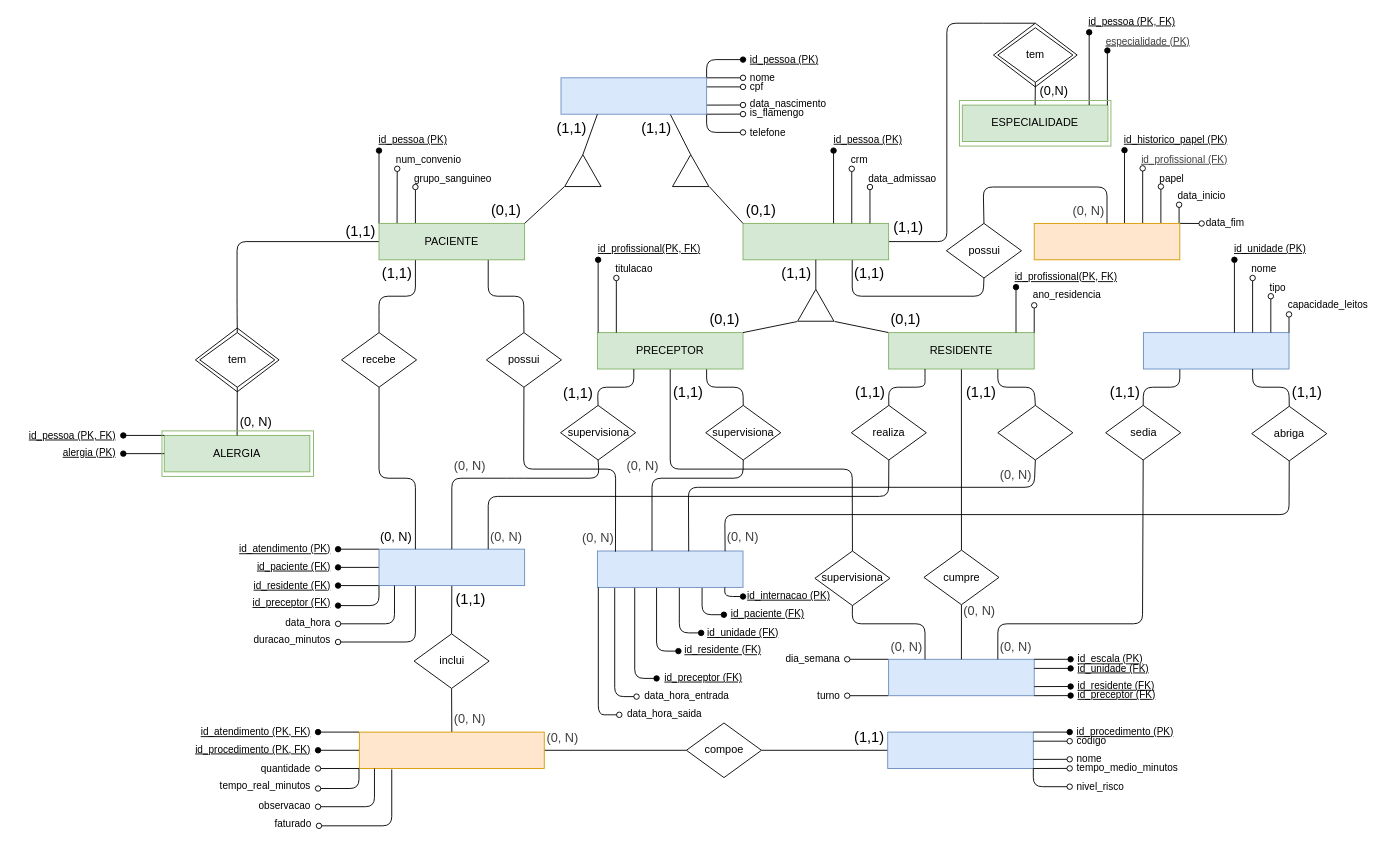
Some shapes in this 1390 by 849 pixel diagram are drawn without their labels. The shapes that lost their labels are listed below. From the top down, each one's centre as x and y in pixels, then its label:
point (633, 95): PESSOA
point (815, 241): PROFISSIONAL
point (1106, 241): HISTORICO_PAPEL
point (1216, 350): UNIDADE
point (1035, 432): acompanha
point (451, 567): ATENDIMENTO
point (670, 568): INTERNACAO
point (961, 677): ESCALA
point (451, 749): PROCEDIMENTO_REALIZADO
point (960, 749): PROCEDIMENTO
